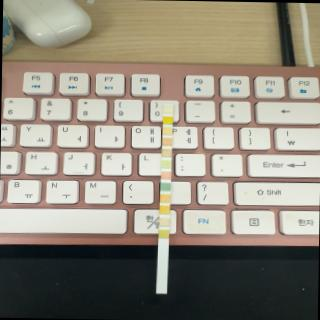mark: (158, 228, 169, 238), (160, 182, 171, 191), (162, 116, 173, 124), (160, 205, 170, 213), (161, 171, 171, 179), (161, 159, 171, 167), (162, 148, 172, 156), (162, 137, 172, 145), (162, 126, 172, 134), (160, 195, 170, 202), (162, 106, 172, 112), (160, 218, 168, 225)
